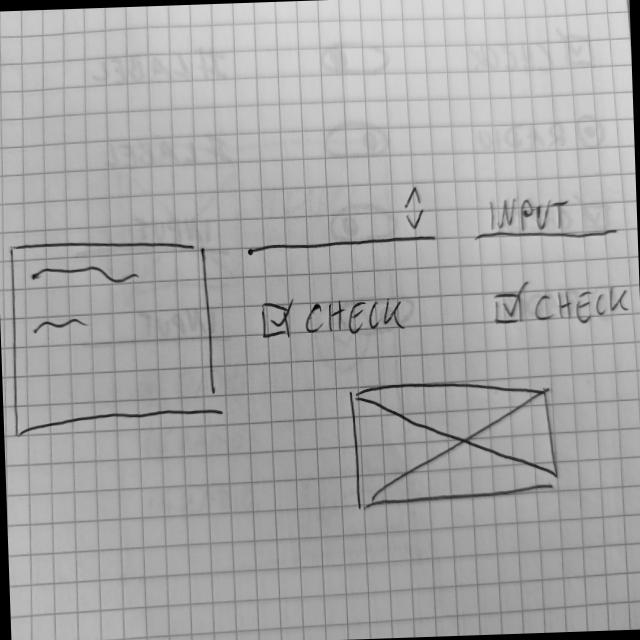checkbox: (261, 292, 410, 342), (493, 277, 636, 329)
image: (348, 376, 563, 511)
input: (471, 189, 620, 246)
number-input: (244, 184, 444, 257)
textarea: (7, 234, 219, 438)
